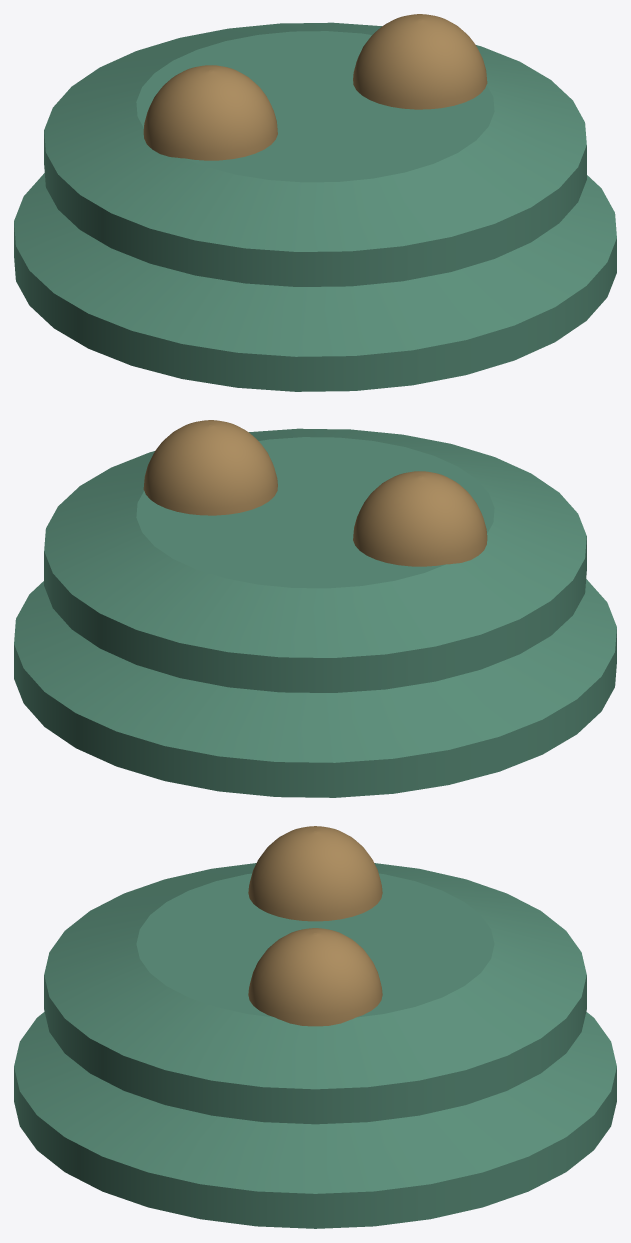
The picture shows the model from 3 angles, top to bottom: view 1: azimuth 30°, elevation 25°; view 2: azimuth 150°, elevation 25°; view 3: azimuth 270°, elevation 25°; orthographic projection.
Visible parts, largest first — view 1: Terraced oval hull.001, Terraced oval hull, Saucer roof auxiliary pod.001, Saucer roof auxiliary pod; view 2: Terraced oval hull.001, Terraced oval hull, Saucer roof auxiliary pod.001, Saucer roof auxiliary pod; view 3: Terraced oval hull.001, Terraced oval hull, Saucer roof auxiliary pod, Saucer roof auxiliary pod.001.
Boxes of the visible parts, x1,y1,x2,y2 form: Terraced oval hull.001: (44, 22, 586, 286); Terraced oval hull: (14, 173, 616, 391); Saucer roof auxiliary pod.001: (143, 65, 277, 160); Saucer roof auxiliary pod: (353, 14, 487, 109); Terraced oval hull.001: (44, 428, 586, 692); Terraced oval hull: (14, 579, 616, 797); Saucer roof auxiliary pod.001: (353, 471, 487, 566); Saucer roof auxiliary pod: (143, 420, 277, 515); Terraced oval hull.001: (44, 863, 586, 1124); Terraced oval hull: (14, 1012, 616, 1228); Saucer roof auxiliary pod: (248, 928, 382, 1026); Saucer roof auxiliary pod.001: (248, 826, 382, 921).
Size of the model in its own units: 2.5 by 1.1 by 2.5.
